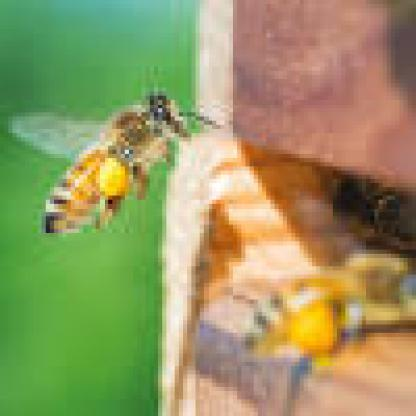other: (13, 83, 220, 241)
